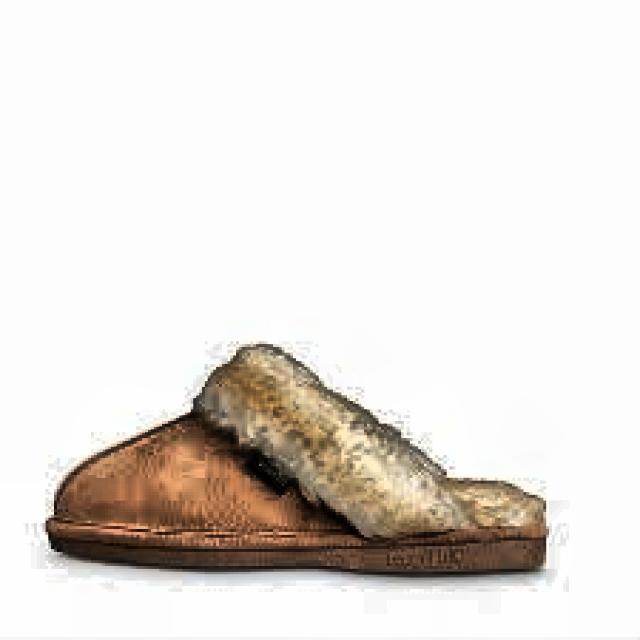shoes: (35, 306, 590, 614)
